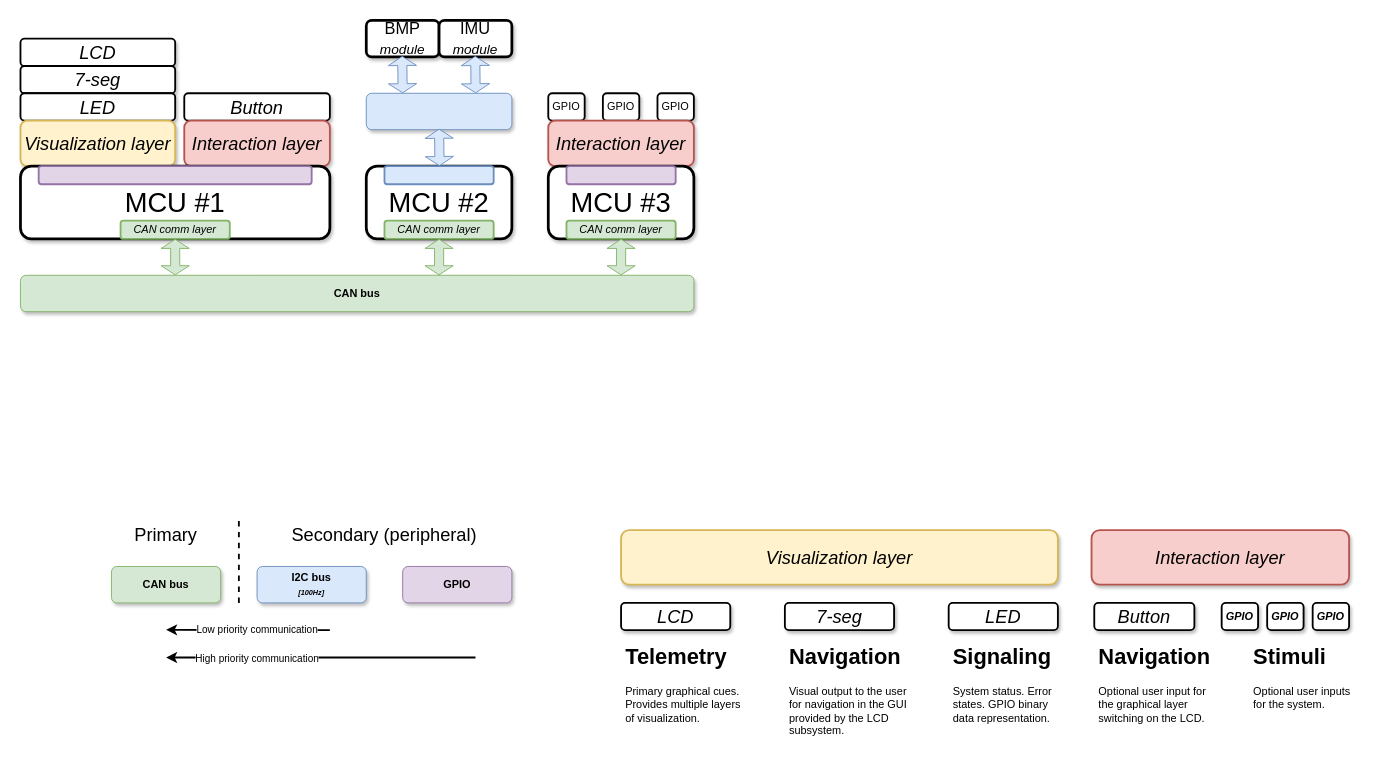
The diagram is 1383 pixels wide and 764 high, and some of its shapes have lost their labels. The shapes that lost their labels are listed below. From the top down, each one's centre as x and y in pixels, then its label:
At pixel 439 112: "I2C bus".
At pixel 174 175: "IO comm layer".
At pixel 438 175: "I2C comm layer".
At pixel 620 175: "IO com layer".
